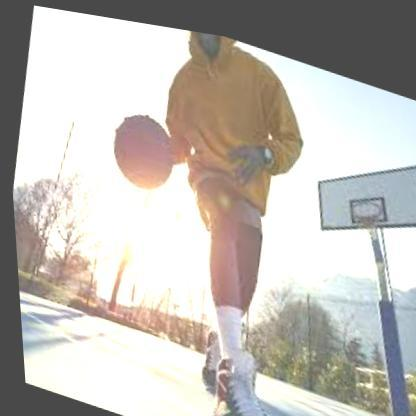basketball: (103, 99, 179, 191)
rim: (347, 182, 382, 214)
